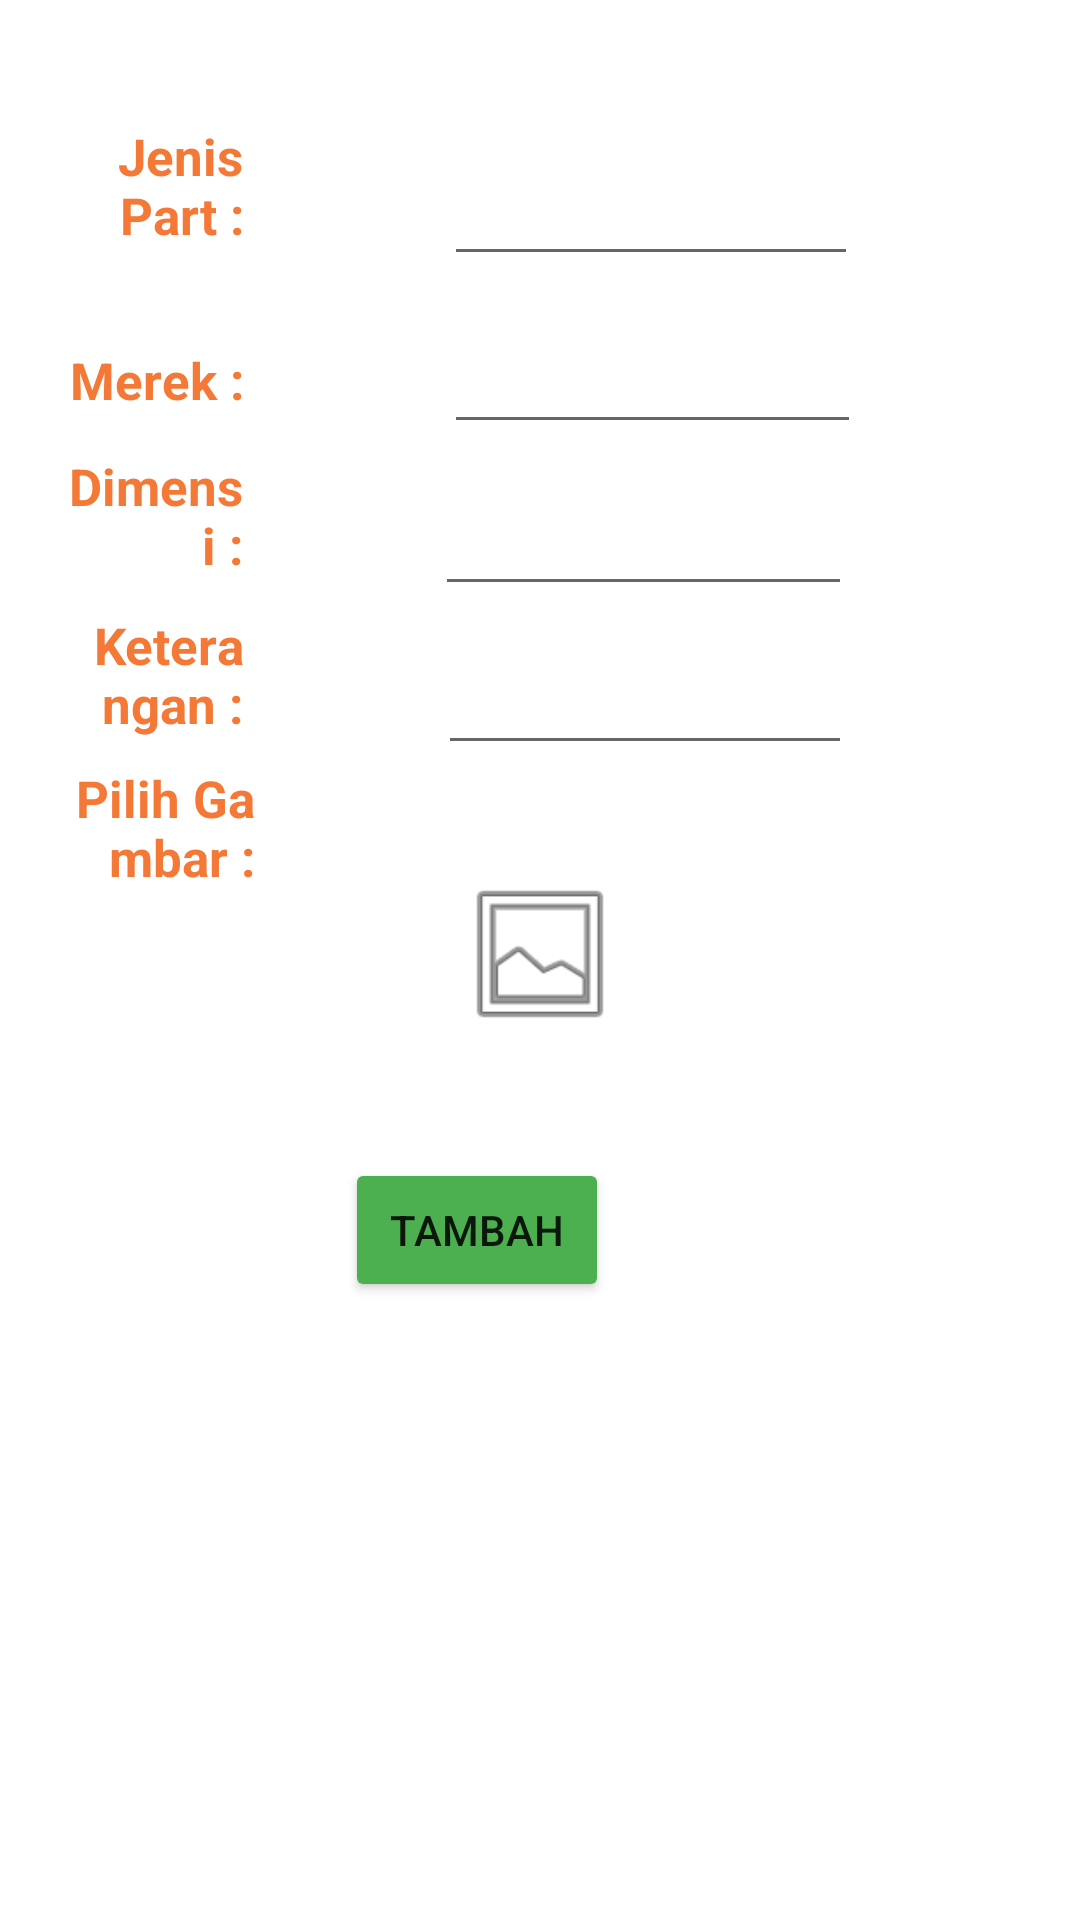

Where icons sit on this 1080 x 1920 app screen, as bbox=[x1, y1, x2, y2]:
gallery: bbox=[477, 890, 603, 1018]
